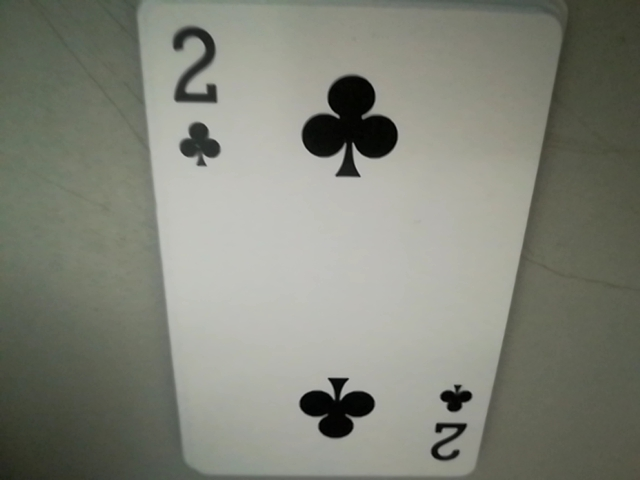mh 2: (151, 12, 228, 166), (421, 378, 481, 471)
